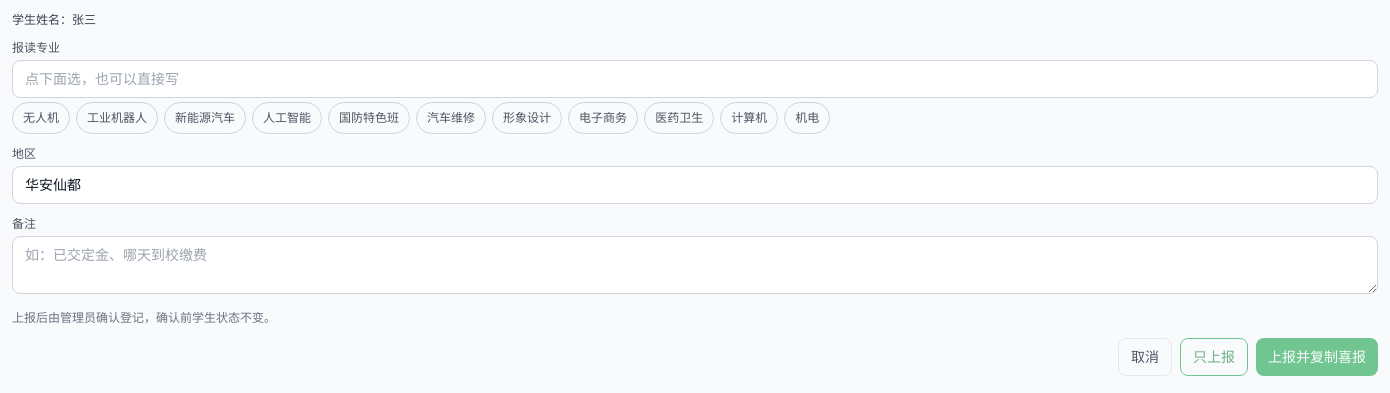
EnrollmentReportForm › needs the enrolled major before it can be reported
Expected: the button "只上报" is disabled, [1180,338,1248,376]
Click the button "无人机" at point(41, 118), box [12,102,70,134]
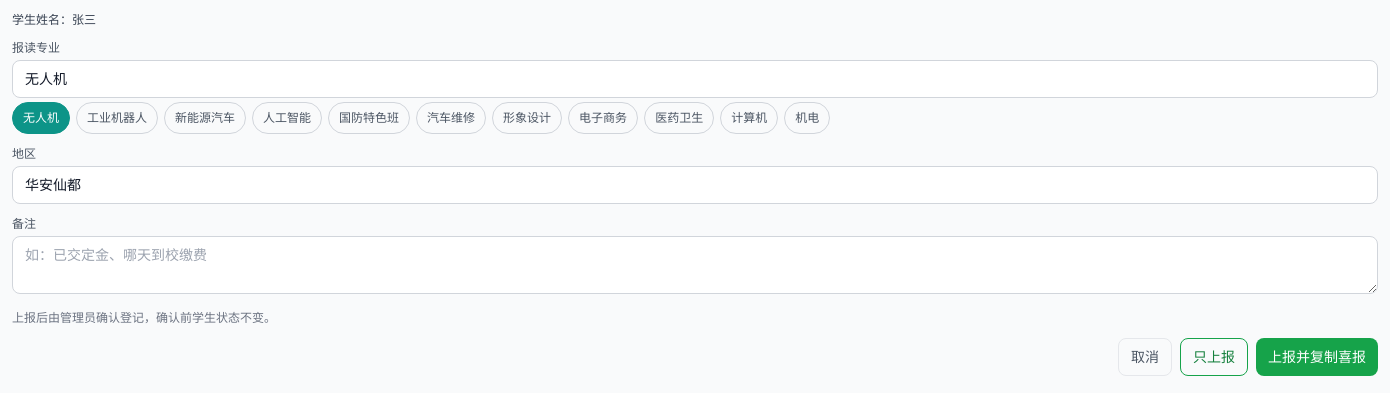
Expected: the button "只上报" is enabled, [1180,338,1248,376]
